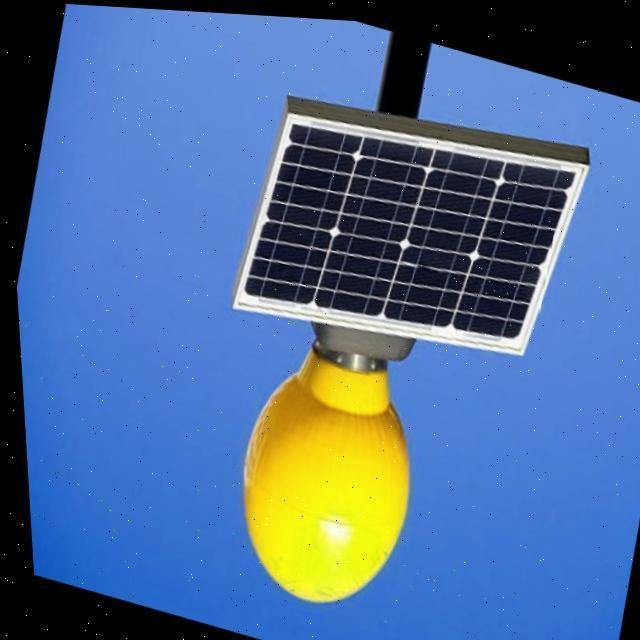Normal Solar Panel: (218, 68, 601, 392)
